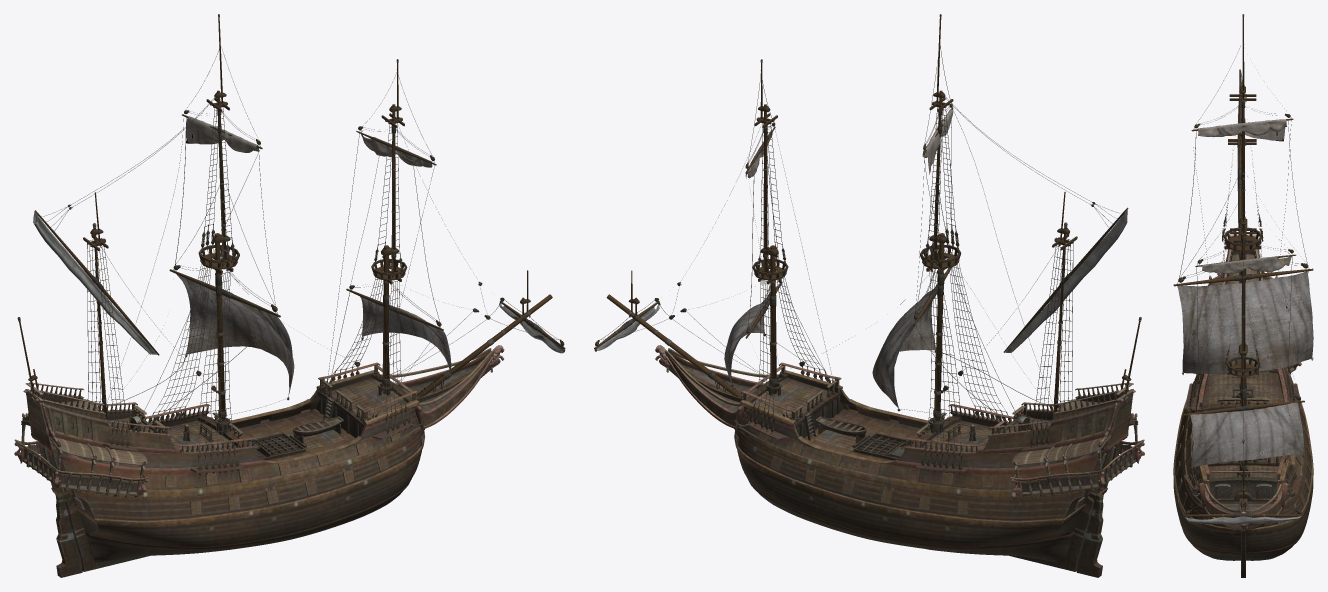
3 views of the same model, side by side, from view 1: azimuth 30°, elevation 25°; view 2: azimuth 150°, elevation 25°; view 3: azimuth 270°, elevation 25° (orthographic). The views are drawn at different scales.
Parts seen in each view (by area): view 1: dutch_ship_large_01_hull, dutch_ship_large_01_rigging, dutch_ship_large_01_sails; view 2: dutch_ship_large_01_hull, dutch_ship_large_01_rigging, dutch_ship_large_01_sails; view 3: dutch_ship_large_01_sails, dutch_ship_large_01_hull, dutch_ship_large_01_rigging.
Boxes of the visible parts, <box> form: dutch_ship_large_01_hull: <box>14,345,504,577</box>; dutch_ship_large_01_rigging: <box>17,14,565,482</box>; dutch_ship_large_01_sails: <box>176,116,451,396</box>; dutch_ship_large_01_hull: <box>655,345,1144,577</box>; dutch_ship_large_01_rigging: <box>594,14,1141,479</box>; dutch_ship_large_01_sails: <box>724,109,953,408</box>; dutch_ship_large_01_sails: <box>1178,119,1313,467</box>; dutch_ship_large_01_hull: <box>1173,235,1313,577</box>; dutch_ship_large_01_rigging: <box>1173,14,1313,524</box>.
Bounding box in the file's own units: 34.25 × 32.08 × 8.39.
Materials: 3 (3 with a texture image).
